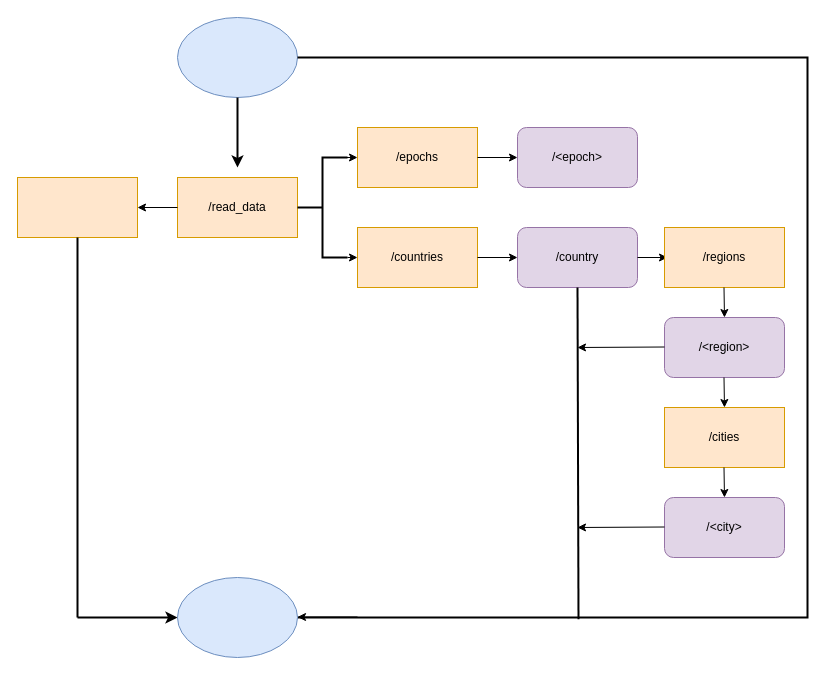
Some shapes in this 826 by 675 pixel diagram are drawn without their labels. The centre of each missing label's shape, as x and y in pixels:
"/help" belongs at point 77,207.
"End" belongs at point 237,617.
"Start" belongs at point 237,57.
